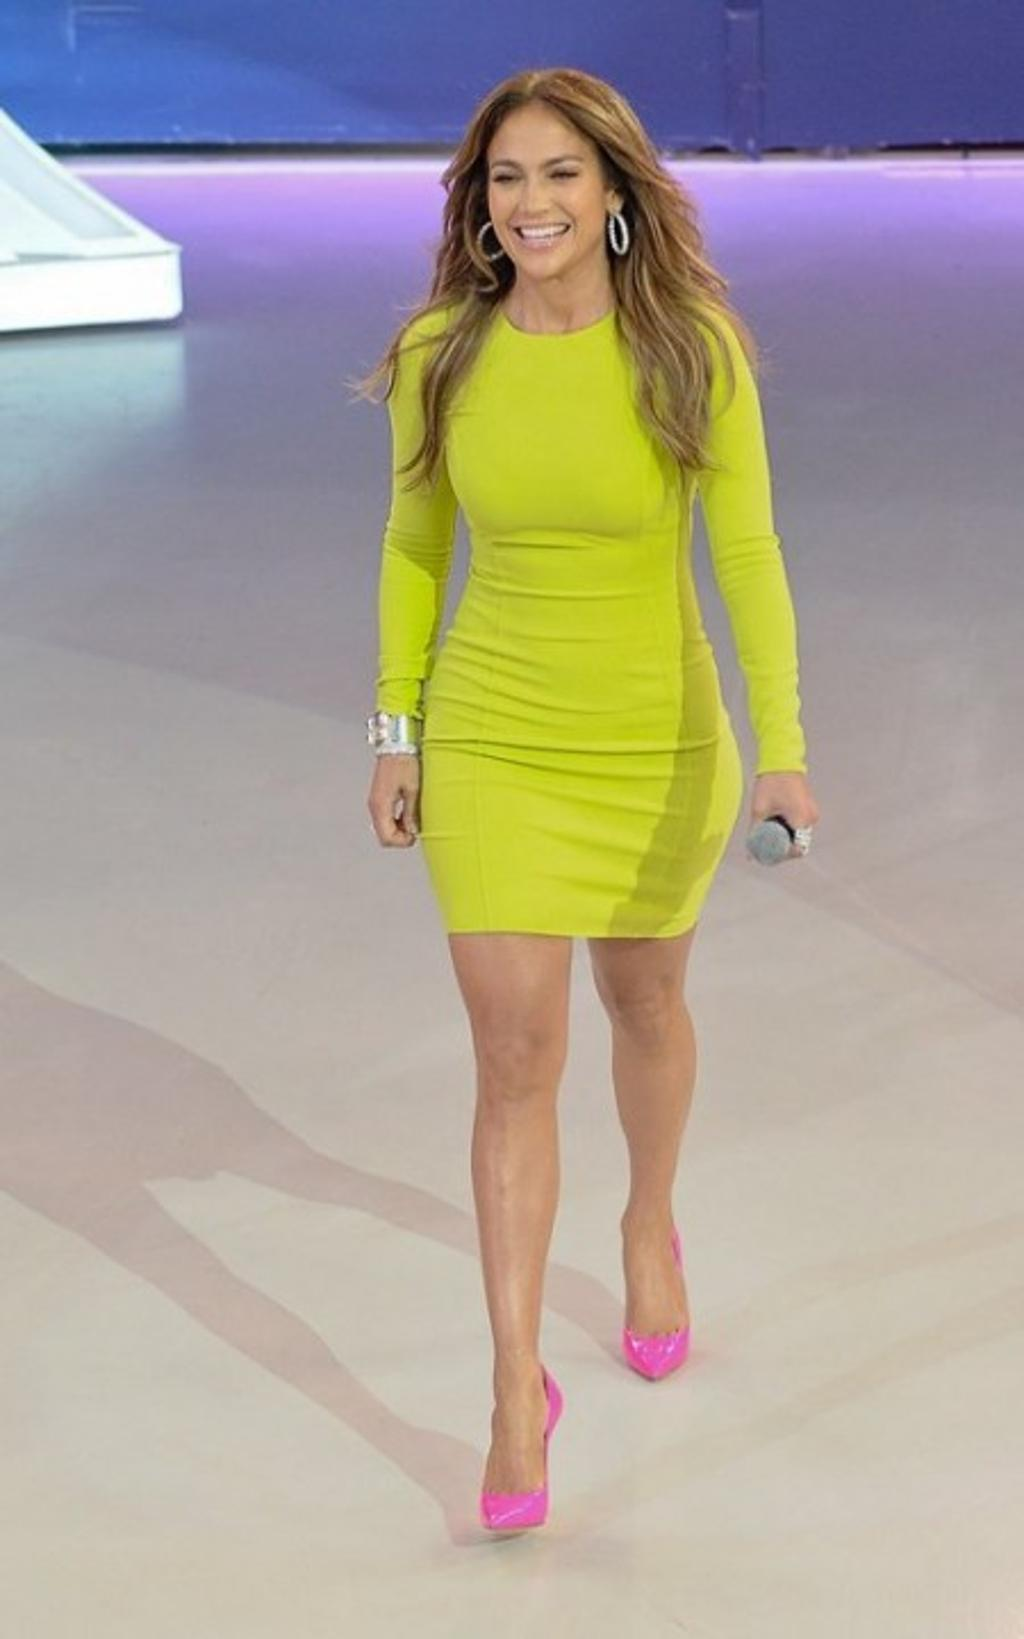face: (480, 109, 602, 272)
